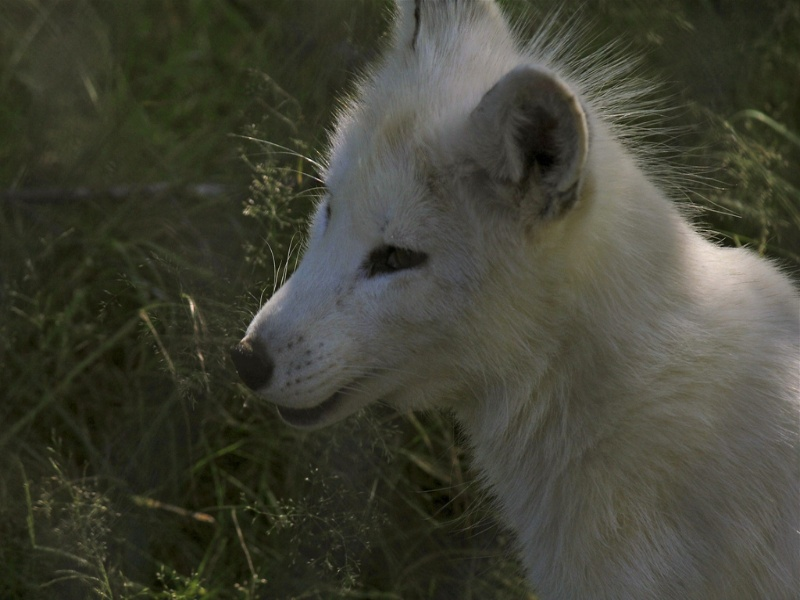fox: (230, 7, 797, 600)
